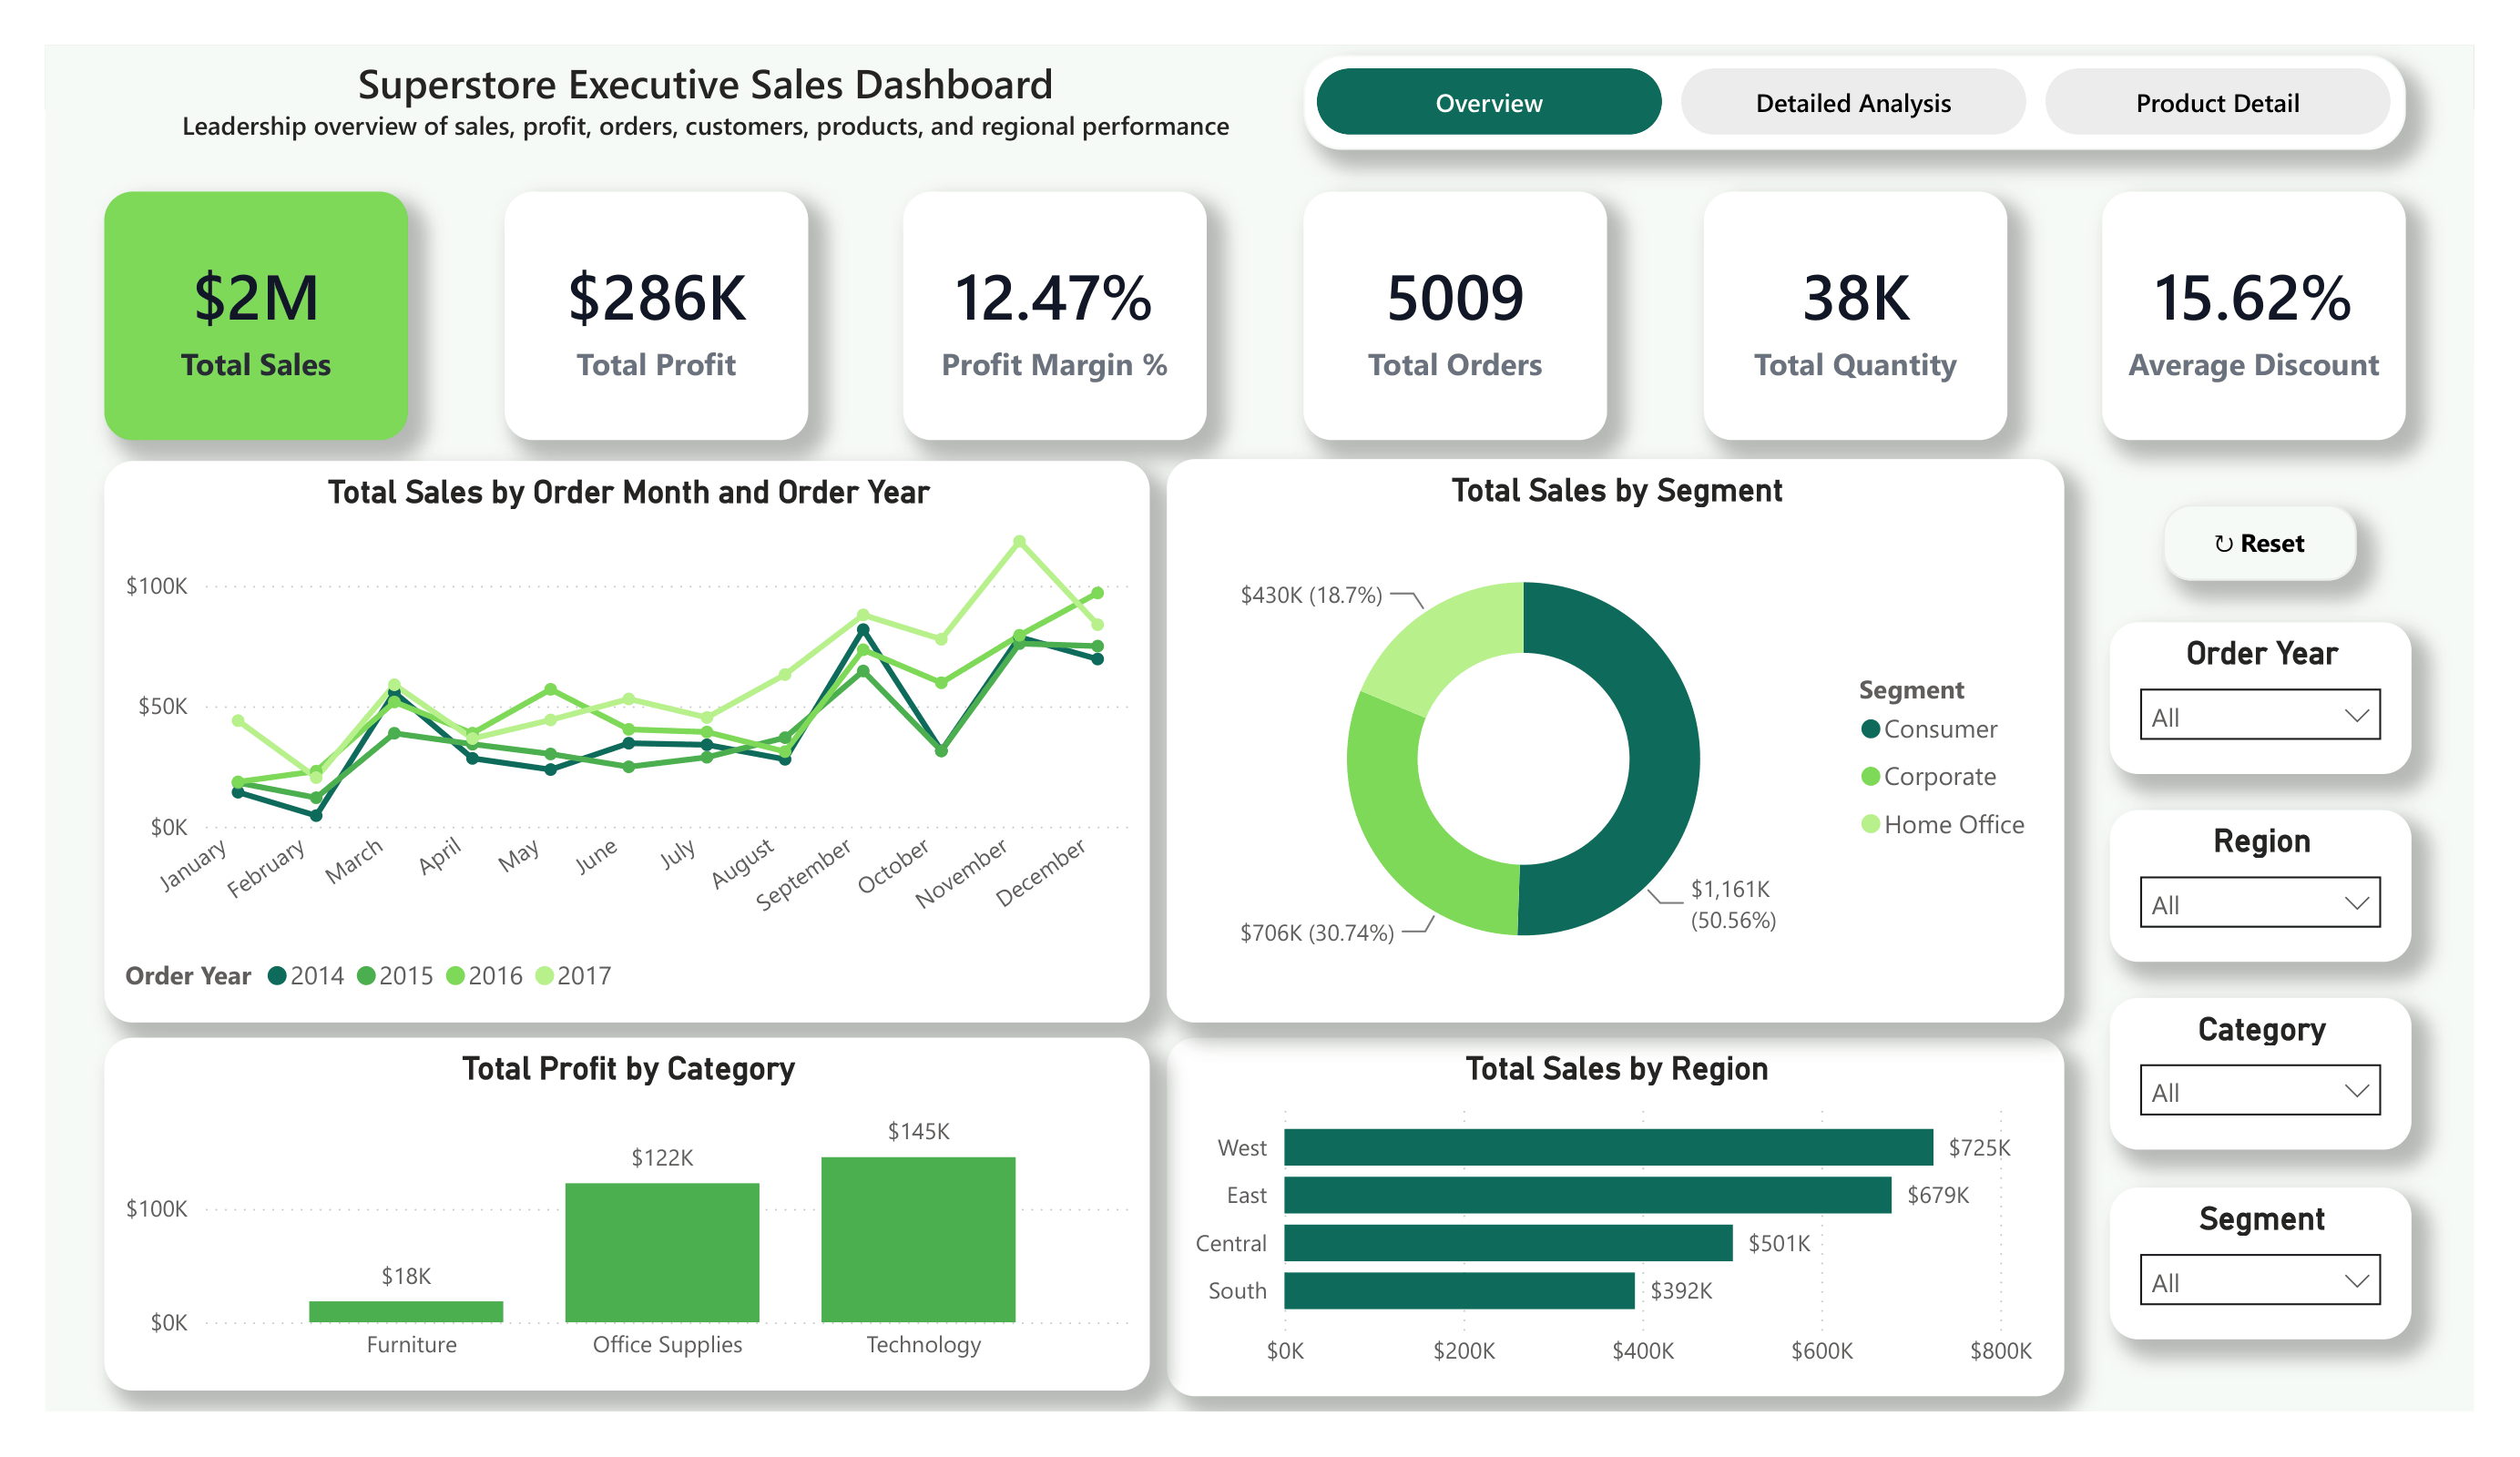

This screenshot's page, from the dashboard's own definition file:
{"tool":"powerbi","page":{"name":"Overview","canvas":[1280,720],"ordinal":0},"visuals":[{"type":"textbox","box":[31.9,0,631.9,67.5],"z":0},{"type":"card","fields":{"Values":["Sales_Data.Total Sales"]},"box":[31.1,76.8,160,131.3],"z":1000},{"type":"card","fields":{"Values":["Sales_Data.Total Profit"]},"box":[241.8,76.8,160,131.3],"z":2000},{"type":"card","fields":{"Values":["Sales_Data.Profit Margin %"]},"box":[452.5,76.8,160,131.3],"z":3000},{"type":"card","fields":{"Values":["Sales_Data.Total Orders"]},"box":[663.1,76.8,160,131.3],"z":4000},{"type":"card","fields":{"Values":["Sales_Data.Total Quantity"]},"box":[873.8,76.8,160,131.3],"z":5000},{"type":"card","fields":{"Values":["Sales_Data.Average Discount"]},"box":[1084.5,76.8,160,131.3],"z":6000},{"type":"lineChart","fields":{"Y":["Sales_Data.Total Sales"],"Series":["Sales_Data.Order Year"],"Category":["Sales_Data.Order Month"]},"box":[30.5,219.1,551.2,296.3],"z":7000},{"type":"clusteredBarChart","fields":{"Y":["Sales_Data.Total Sales"],"Category":["Sales_Data.Region"]},"box":[591.3,523.3,472.7,188.7],"z":8000},{"type":"clusteredColumnChart","fields":{"Category":["Sales_Data.Category"],"Y":["Sales_Data.Total Profit"]},"box":[30.5,523.4,551.2,185.8],"z":9000},{"type":"donutChart","fields":{"Category":["Sales_Data.Segment"],"Y":["Sales_Data.Total Sales"]},"box":[591.3,218.5,472.3,296.9],"z":10000},{"type":"slicer","title":"Order Year","fields":{"Values":["Sales_Data.Order Year"]},"box":[1088,303.6,158.9,79.9],"z":11000},{"type":"slicer","title":"Region ","fields":{"Values":["Sales_Data.Region"]},"box":[1088,403,158.9,79.9],"z":12000},{"type":"slicer","title":"Category ","fields":{"Values":["Sales_Data.Category"]},"box":[1088,502.3,158.9,79.9],"z":13000},{"type":"slicer","title":"Segment","fields":{"Values":["Sales_Data.Segment"]},"box":[1088,601.7,158.9,79.9],"z":14000},{"type":"pageNavigator","box":[663.5,5,580.5,50],"z":15000},{"type":"actionButton","box":[1115.9,242,102.4,39.6],"z":16000}]}

Visuals, with their boxes on the page's 1280x720 design canvas (x1, y1, x2, y2). These are canvas units, not pixel positions in the 2520x1457 screenshot, which may show the page scaled, cropped or inside an application window:
textbox: x1=32 y1=0 x2=664 y2=68
card - Sales_Data.Total Sales: x1=31 y1=77 x2=191 y2=208
card - Sales_Data.Total Profit: x1=242 y1=77 x2=402 y2=208
card - Sales_Data.Profit Margin %: x1=452 y1=77 x2=612 y2=208
card - Sales_Data.Total Orders: x1=663 y1=77 x2=823 y2=208
card - Sales_Data.Total Quantity: x1=874 y1=77 x2=1034 y2=208
card - Sales_Data.Average Discount: x1=1084 y1=77 x2=1244 y2=208
lineChart - Sales_Data.Total Sales x Sales_Data.Order Year: x1=30 y1=219 x2=582 y2=515
clusteredBarChart - Sales_Data.Total Sales x Sales_Data.Region: x1=591 y1=523 x2=1064 y2=712
clusteredColumnChart - Sales_Data.Category x Sales_Data.Total Profit: x1=30 y1=523 x2=582 y2=709
donutChart - Sales_Data.Segment x Sales_Data.Total Sales: x1=591 y1=218 x2=1064 y2=515
"Order Year" slicer: x1=1088 y1=304 x2=1247 y2=384
"Region " slicer: x1=1088 y1=403 x2=1247 y2=483
"Category " slicer: x1=1088 y1=502 x2=1247 y2=582
"Segment" slicer: x1=1088 y1=602 x2=1247 y2=682
pageNavigator: x1=664 y1=5 x2=1244 y2=55
actionButton: x1=1116 y1=242 x2=1218 y2=282
